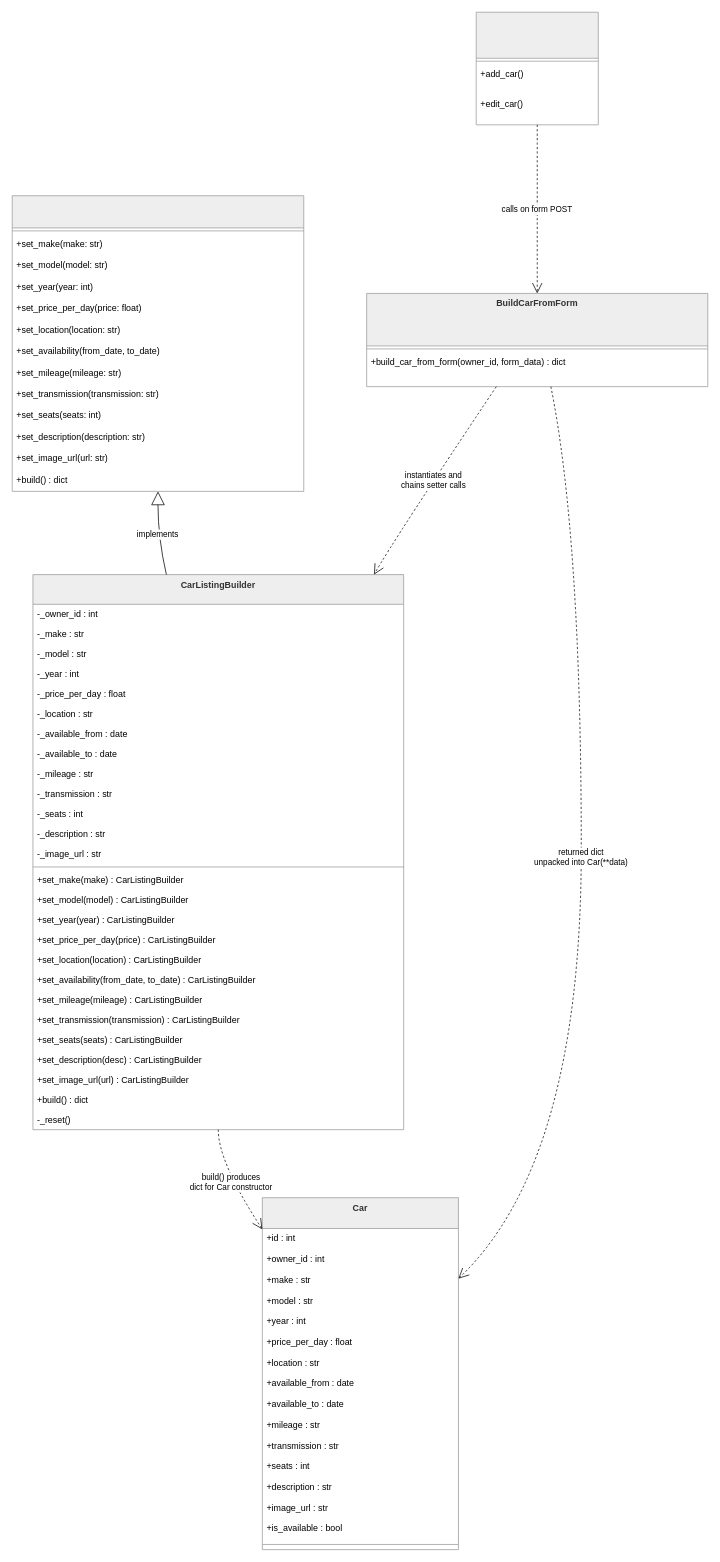
Image size: 720x1562. Some labels were removed from this diagram. Each missing label, with the box of its shape:
AbstractCarListingBuilder: (11, 195, 304, 491)
CarsRoute: (475, 11, 598, 125)
